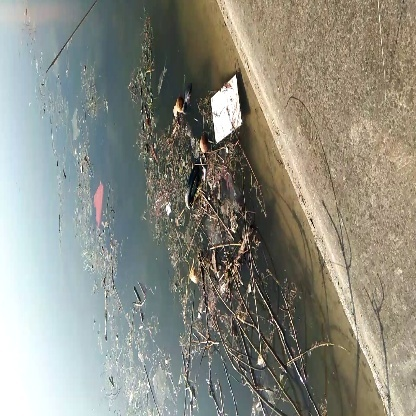plastic-garbage: (208, 67, 255, 145)
